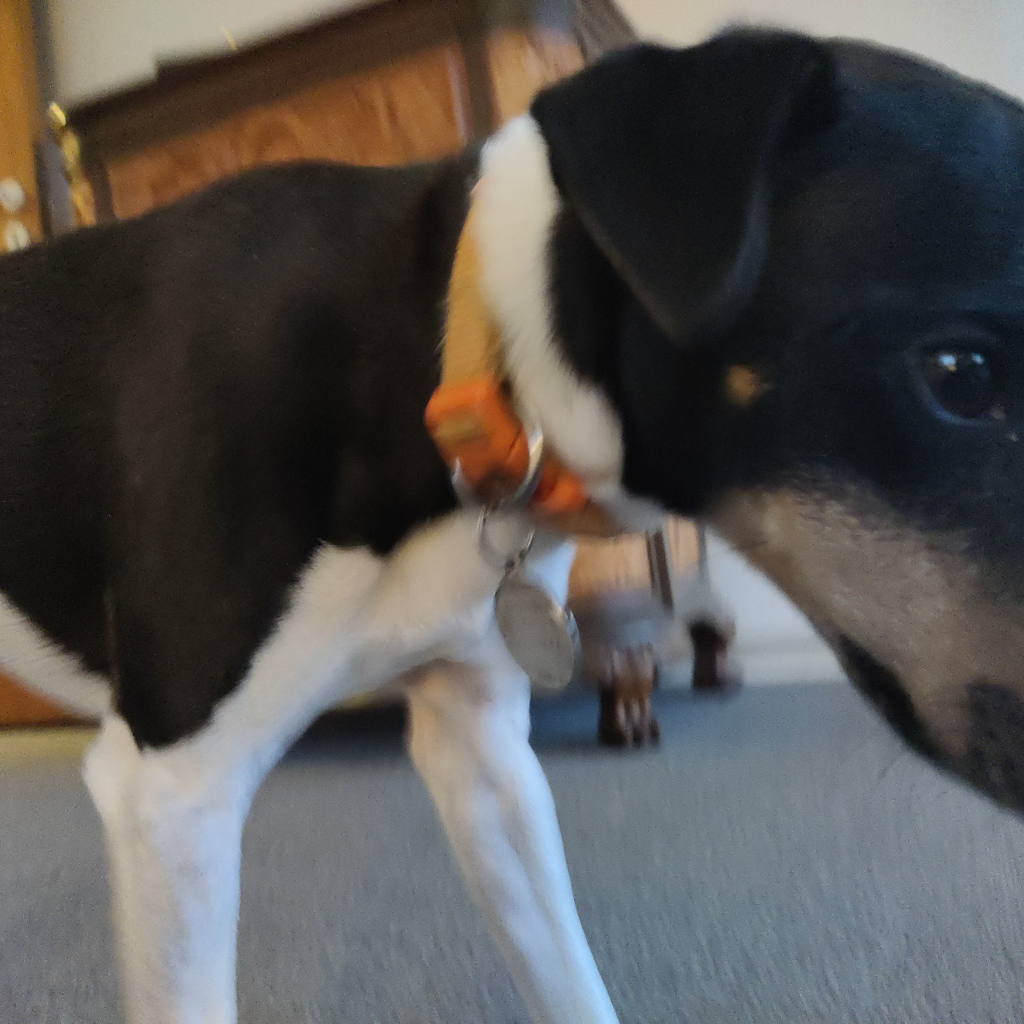Dog: (0, 16, 1024, 1024)
